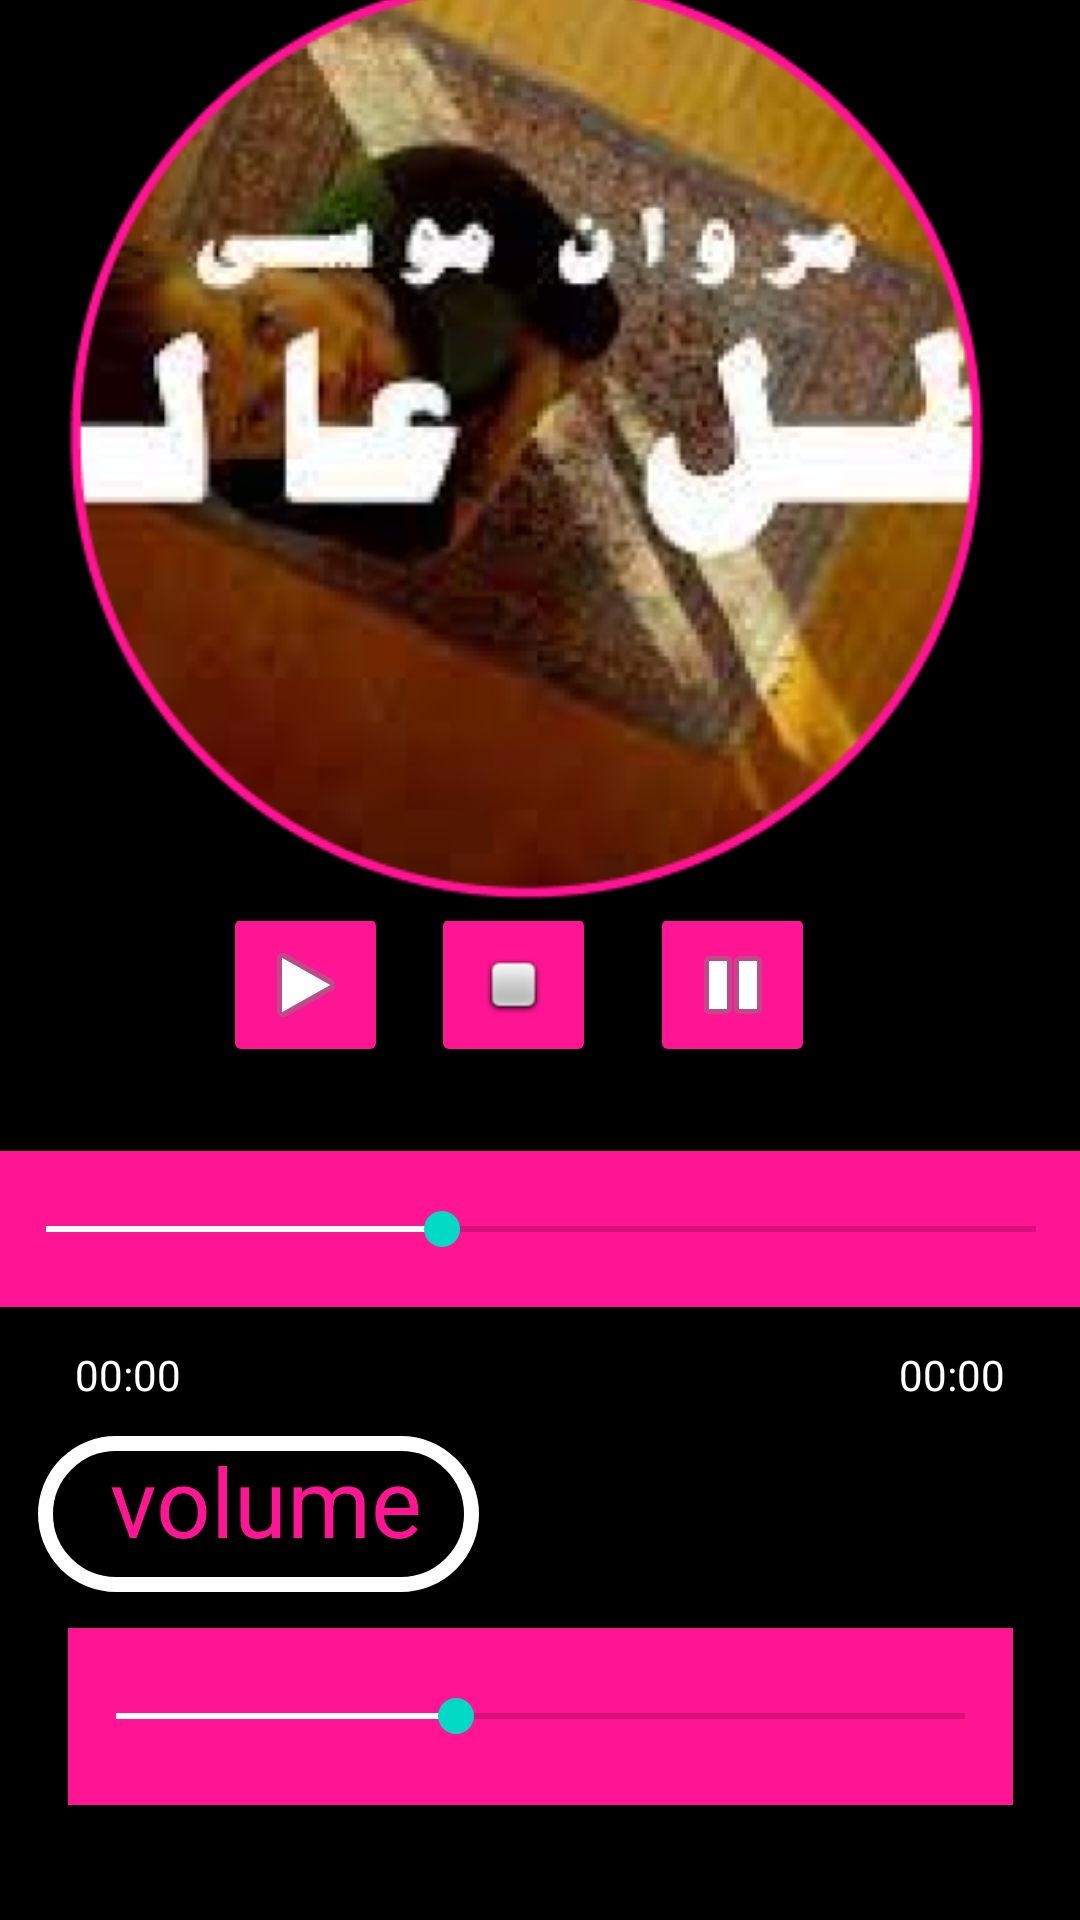

Icon bounding boxes for this 1080x1920 phone screenshot, format bbox=(x1, y1, x2, y2):
pause: bbox=(662, 921, 803, 1049)
play: bbox=(235, 921, 376, 1049)
